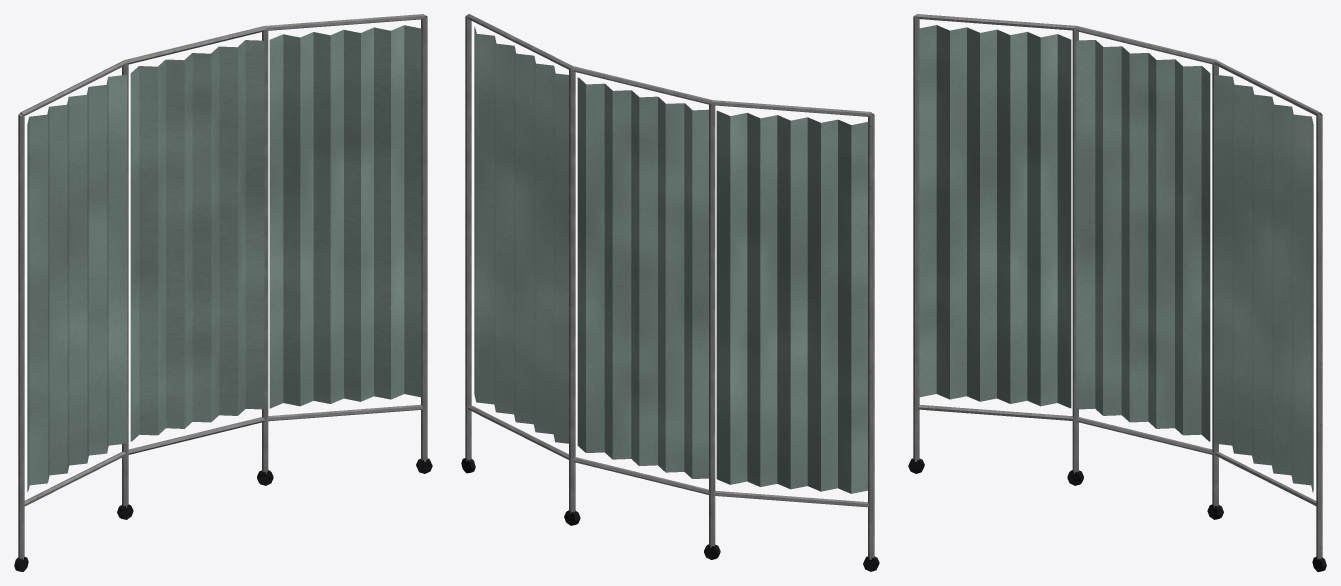
The model's file is Screen_Medical.fbx.
3 views of the same model, side by side, from view 1: azimuth 30°, elevation 25°; view 2: azimuth 150°, elevation 25°; view 3: azimuth 330°, elevation 25° (orthographic).
Parts seen in each view (by area): view 1: ШТОРКА; view 2: ШТОРКА; view 3: ШТОРКА.
Boxes of the visible parts, box(x1,y1,x2,y2) form: ШТОРКА: box(14, 14, 432, 571); ШТОРКА: box(461, 14, 879, 571); ШТОРКА: box(908, 14, 1326, 571).
Bounding box in the file's own units: 1.79 × 1.88 × 0.2479.
1 material, 1 textured.
